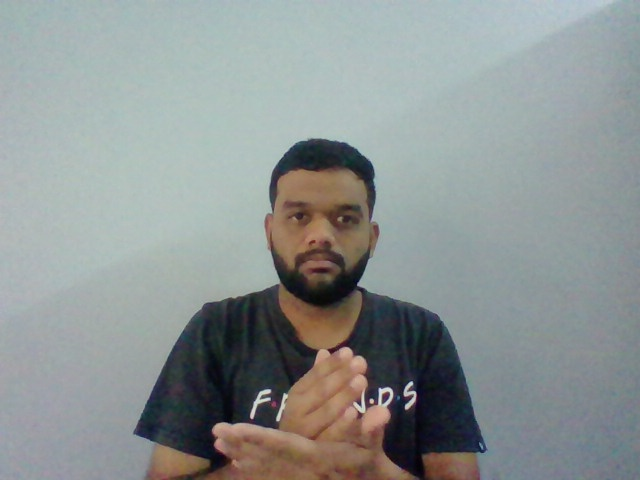Stop: (209, 346, 394, 480)
